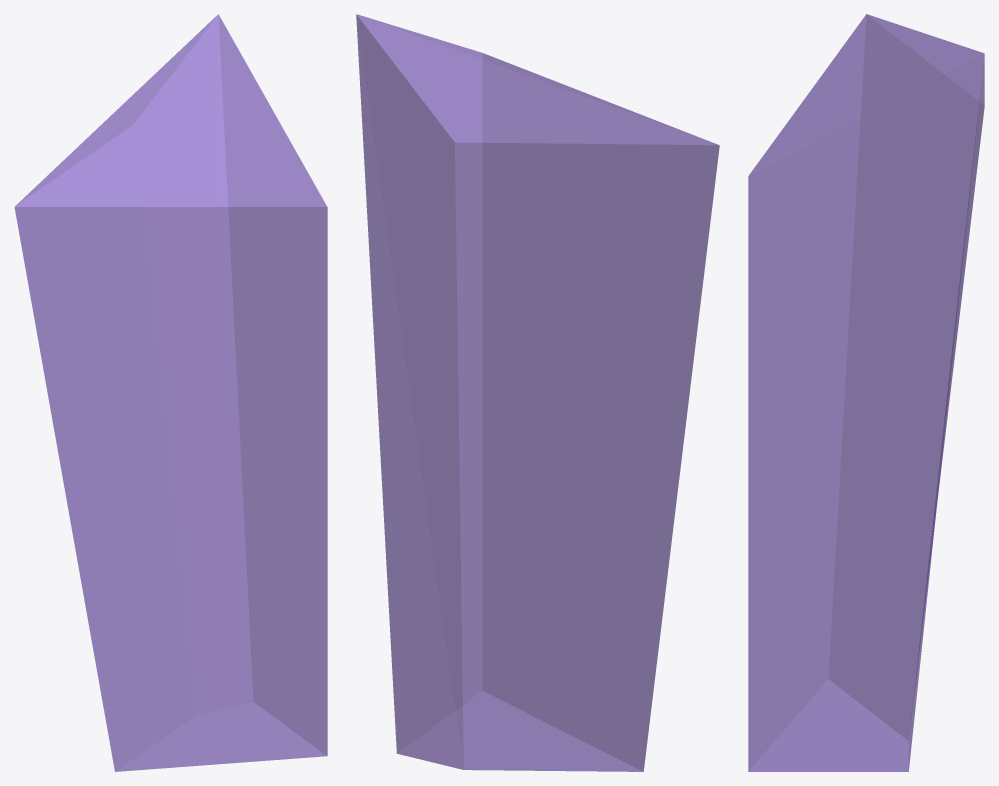
Rendered from Prop_Crystal_Singular_Purple_13.fbx.
The picture shows the model from 3 angles, left to right: view 1: azimuth 30°, elevation 25°; view 2: azimuth 150°, elevation 25°; view 3: azimuth 270°, elevation 25°; orthographic projection. The views are drawn at different scales.
Parts seen in each view (by area): view 1: Prop_Crystal_Singular_Purple_13; view 2: Prop_Crystal_Singular_Purple_13; view 3: Prop_Crystal_Singular_Purple_13.
Part boxes in pixels (<box>): Prop_Crystal_Singular_Purple_13: <box>14,14,327,771</box>; Prop_Crystal_Singular_Purple_13: <box>356,14,719,771</box>; Prop_Crystal_Singular_Purple_13: <box>748,14,984,771</box>.
Size of the model in its own units: 10.15 by 24.85 by 7.41.
